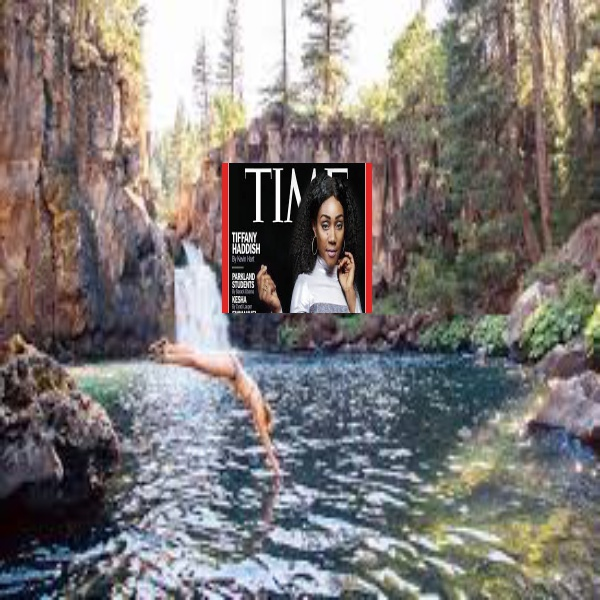time_cover: (203, 154, 383, 323)
